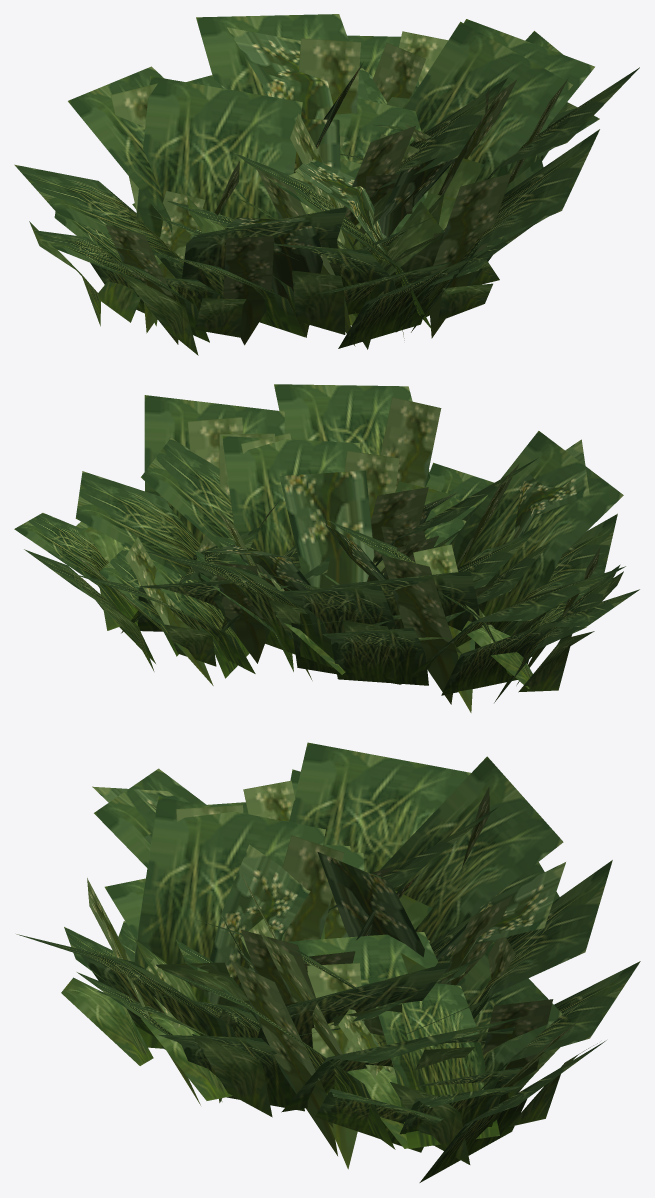
The model's file is grass_demo_01.FBX.
3 renders of one model, top to bottom at view 1: azimuth 30°, elevation 25°; view 2: azimuth 150°, elevation 25°; view 3: azimuth 270°, elevation 25°, orthographic. The views are drawn at different scales.
Parts seen in each view (by area): view 1: grass_demo_01; view 2: grass_demo_01; view 3: grass_demo_01.
Part boxes in pixels (left/top/right/bottom): grass_demo_01: left=14, top=14, right=639, bottom=355; grass_demo_01: left=14, top=384, right=639, bottom=712; grass_demo_01: left=16, top=742, right=640, bottom=1182.
Size of the model in its own units: 248 by 86.72 by 204.
